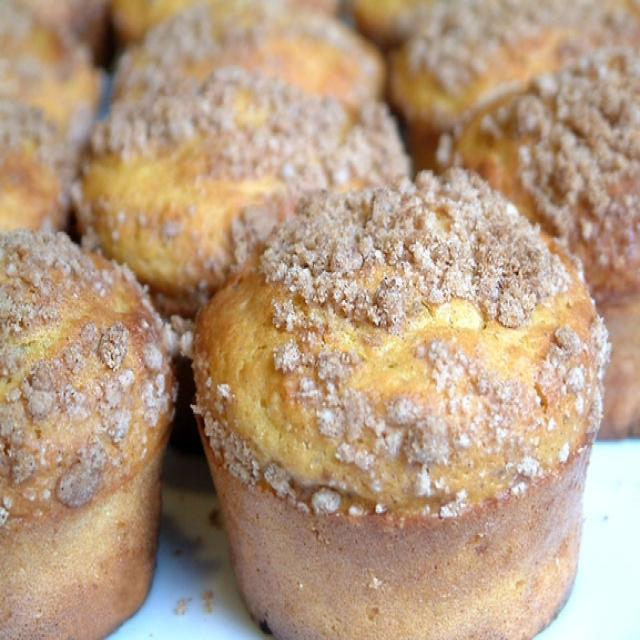炸货点心: (16, 17, 621, 624)
面包点心: (16, 17, 621, 624)
